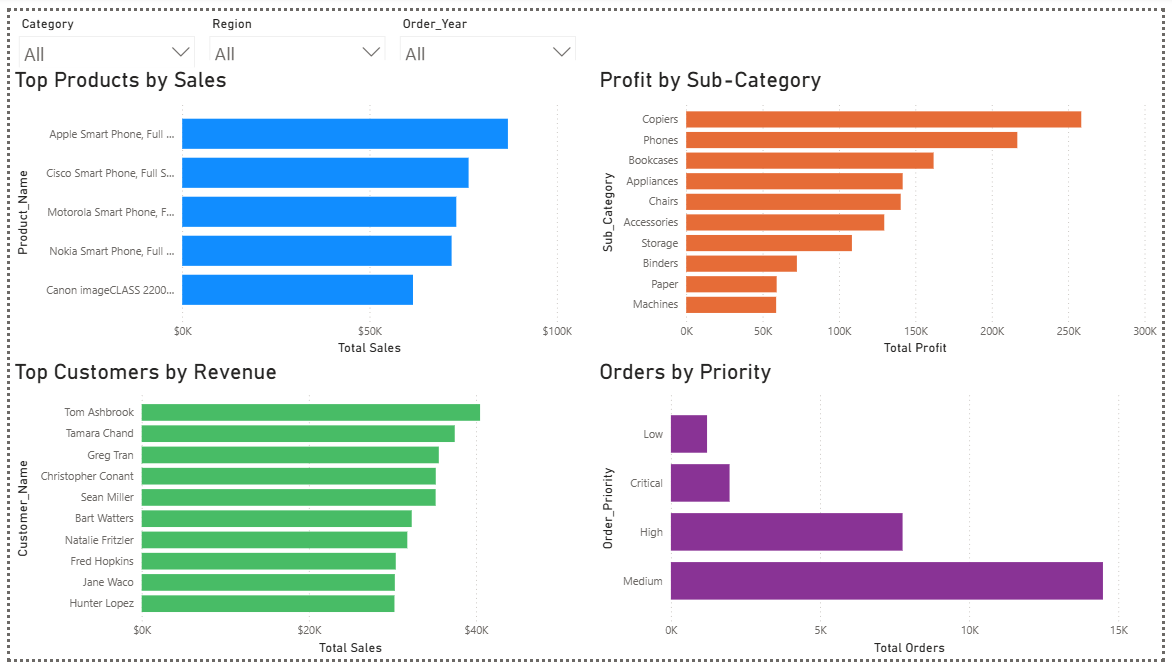

The page's visual inventory and layout, read from the dashboard file:
{"tool":"powerbi","page":{"name":"Product & Customer Insights","canvas":[1280,720],"ordinal":1},"visuals":[{"type":"barChart","title":"Top Products by Sales","fields":{"Category":["sales_analytics sales_data.Product_Name"],"Y":["sales_analytics sales_data.Total Sales"]},"box":[0,62.4,629.3,325],"z":0},{"type":"barChart","title":"Top Customers by Revenue","fields":{"Category":["sales_analytics sales_data.Customer_Name"],"Y":["sales_analytics sales_data.Total Sales"]},"box":[0,387.4,629.3,332.6],"z":1000},{"type":"barChart","title":"Profit by Sub-Category","fields":{"Category":["sales_analytics sales_data.Sub_Category"],"Y":["sales_analytics sales_data.Total Profit"]},"box":[650.1,62.4,629.3,325],"z":2000},{"type":"barChart","title":"Orders by Priority","fields":{"Category":["sales_analytics sales_data.Order_Priority"],"Y":["sales_analytics sales_data.Total Orders"]},"box":[650.1,387.4,629.3,332.6],"z":3000},{"type":"slicer","fields":{"Values":["sales_analytics sales_data.Region"]},"box":[211.7,0,215.4,54.8],"z":3001},{"type":"slicer","fields":{"Values":["sales_analytics sales_data.Category"]},"box":[0,0,215.4,62.4],"z":3002},{"type":"slicer","fields":{"Values":["sales_analytics sales_data.Order_Year"]},"box":[423.3,0,215.4,54.8],"z":3003}]}

Visuals, with their boxes in screenshot pixels (x1, y1, x2, y2), scaled from the page's 1280x720 canvas onto the 1172x670 screenshot:
"Top Products by Sales" barChart: Rect(0, 58, 576, 360)
"Top Customers by Revenue" barChart: Rect(0, 360, 576, 669)
"Profit by Sub-Category" barChart: Rect(595, 58, 1171, 360)
"Orders by Priority" barChart: Rect(595, 360, 1171, 669)
slicer - sales_analytics sales_data.Region: Rect(194, 0, 391, 51)
slicer - sales_analytics sales_data.Category: Rect(0, 0, 197, 58)
slicer - sales_analytics sales_data.Order_Year: Rect(388, 0, 585, 51)
